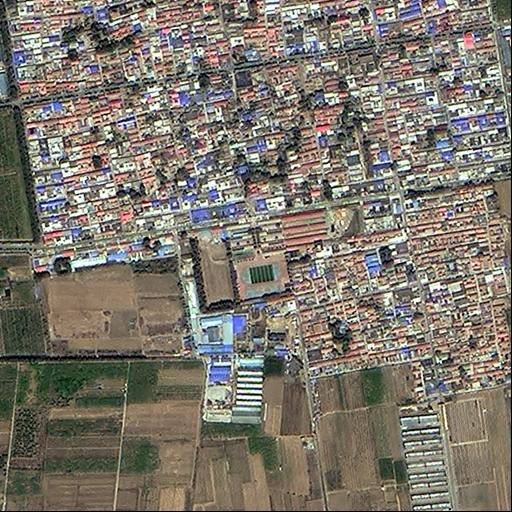school: (222, 215, 292, 300)
